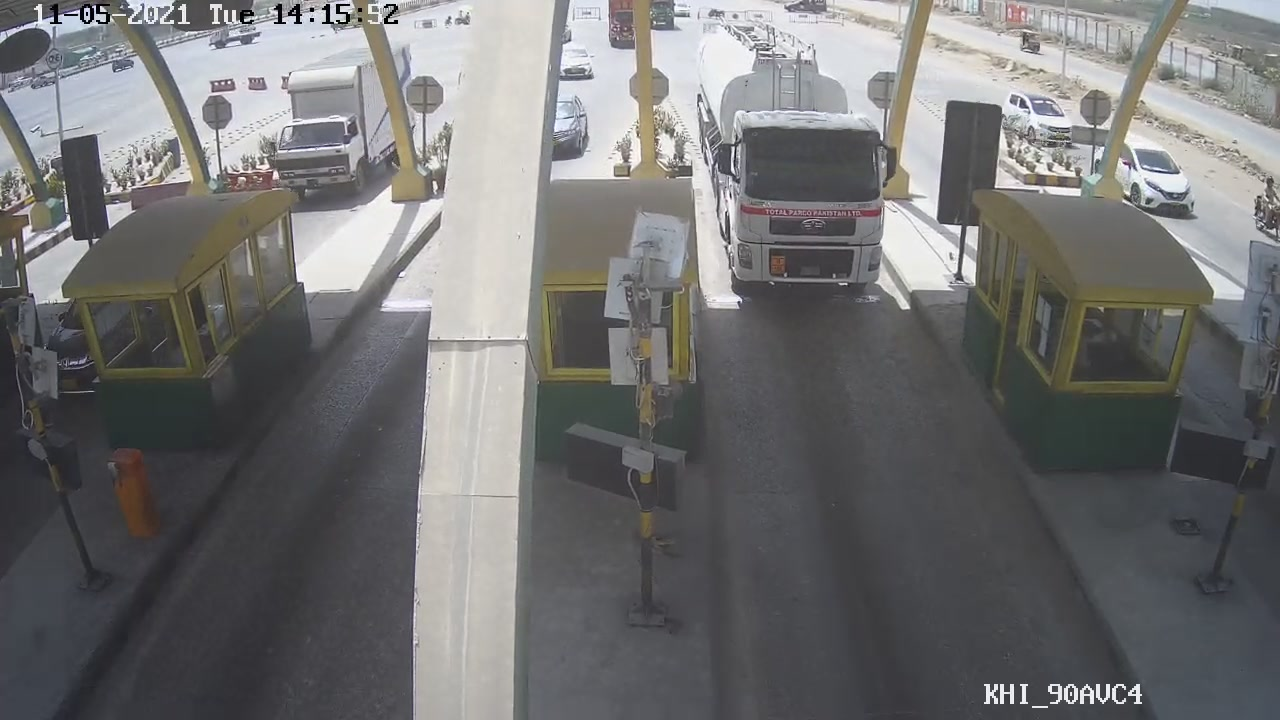F6: (700, 48, 906, 304)
